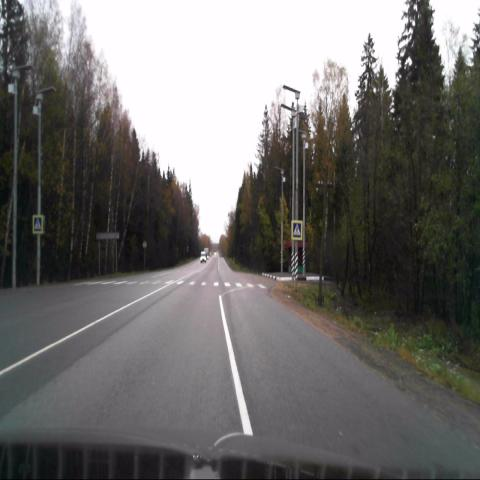5_19_1: (291, 220, 302, 241)
